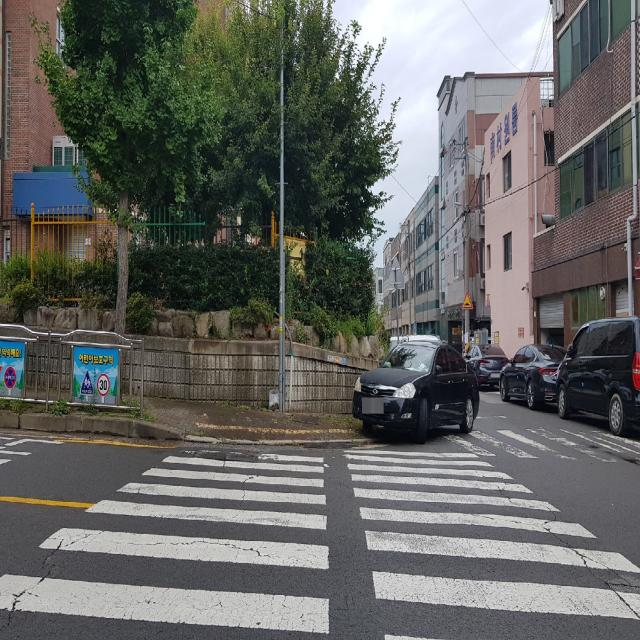횡단보도: (0, 447, 640, 640), (477, 432, 615, 456)
